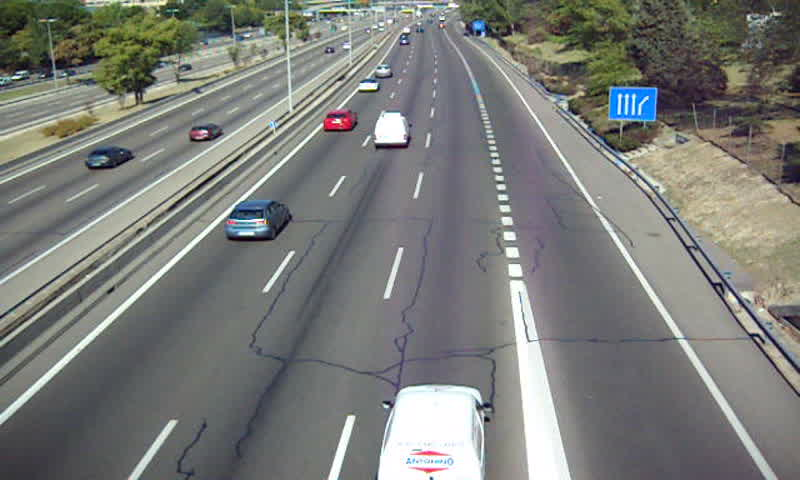car: (224, 200, 290, 240), (324, 110, 357, 133), (357, 79, 379, 92), (375, 64, 391, 78)
van: (379, 384, 486, 480), (374, 113, 411, 147)
